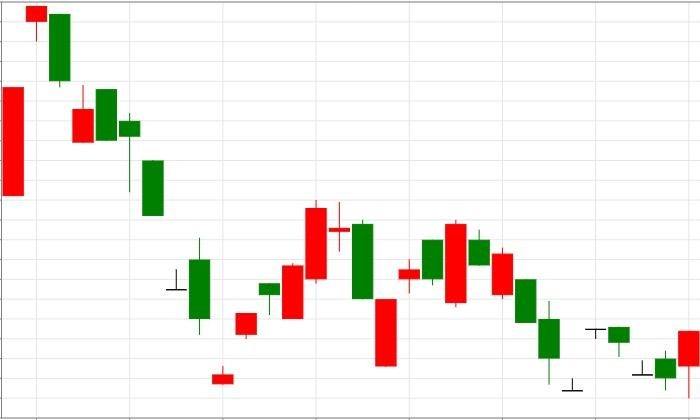bearish_engulfing_fall: (374, 219, 468, 367)
evening_star_fall: (211, 201, 374, 385)
